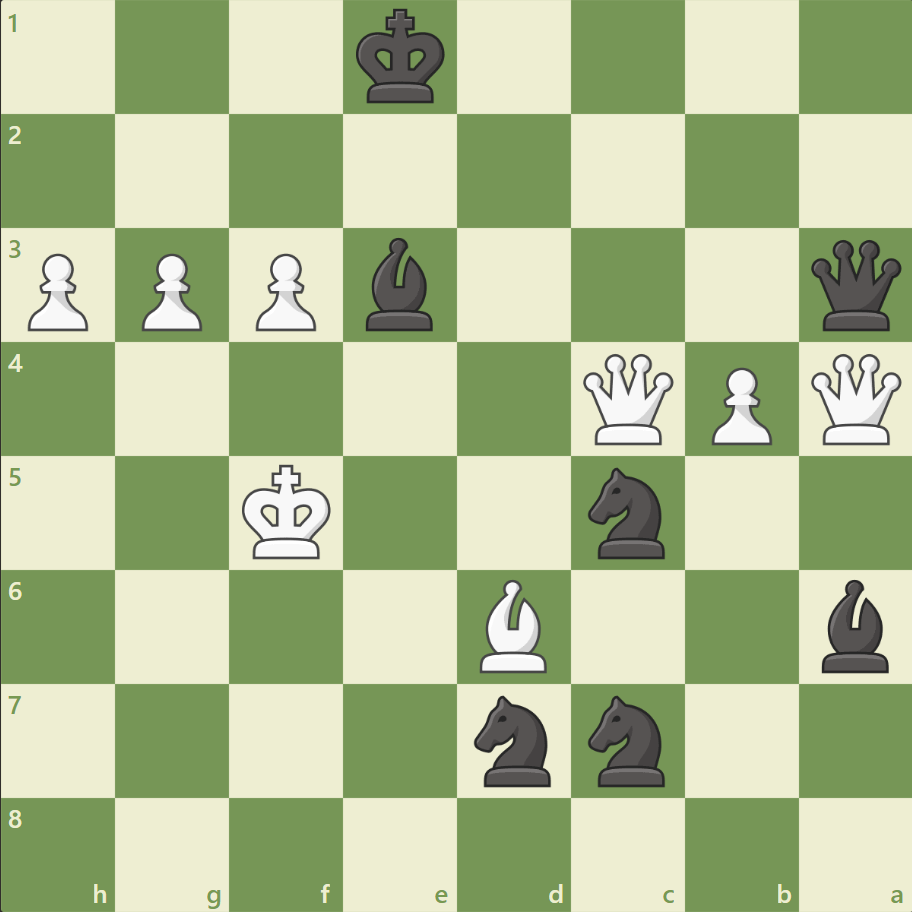B: (471, 574, 555, 676)
K: (238, 458, 338, 566)
P: (701, 359, 776, 450), (247, 246, 322, 337), (133, 246, 208, 337), (20, 246, 95, 337)
Q: (805, 349, 904, 449), (578, 349, 677, 449)
b: (358, 233, 442, 336), (812, 574, 896, 676)
k: (351, 4, 451, 112)
n: (579, 688, 676, 791), (465, 688, 562, 791), (579, 461, 676, 564)
q: (805, 236, 904, 335)
